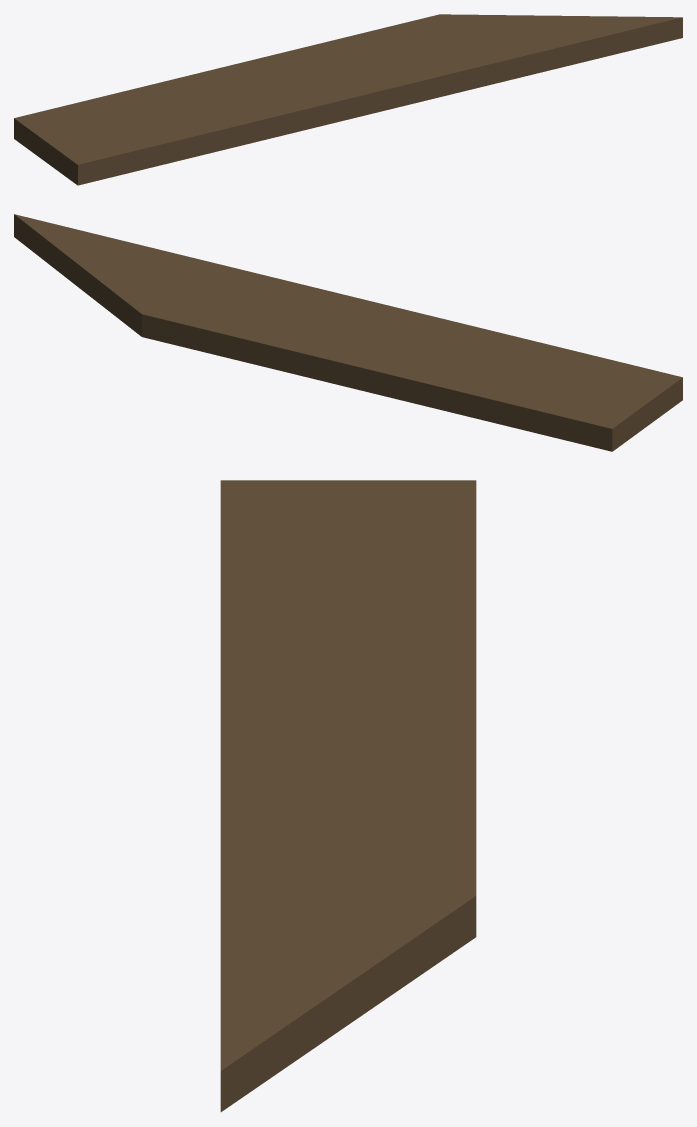
Rendered from Wood3.3.fbx.
3 views of the same model, one above another, from view 1: azimuth 30°, elevation 25°; view 2: azimuth 150°, elevation 25°; view 3: azimuth 270°, elevation 25° (orthographic). The views are drawn at different scales.
Visible parts, largest first — view 1: polySurface35; view 2: polySurface35; view 3: polySurface35.
Boxes of the visible parts, x1,y1,x2,y2 form: polySurface35: (14,14,682,185); polySurface35: (14,214,682,451); polySurface35: (220,480,476,1111).
Bounding box in the file's own units: 8.89 × 0.2905 × 1.62.
